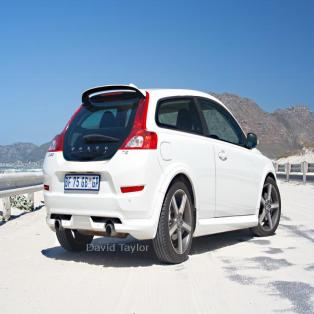Auto: (43, 83, 281, 264)
